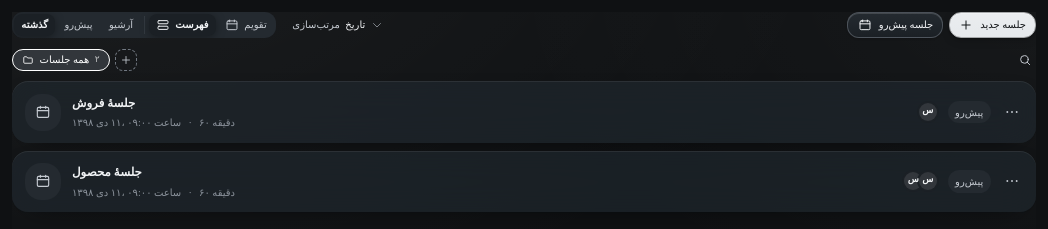
Meetings › the search filters by title and by participant
Expected: the text "جلسهٔ فروش" is shown, x1=72 y1=96 x2=135 y2=110
Step 1. Click the button named "جست‌وجوی جلسه" → (1025, 60), box x1=1014 y1=49 x2=1036 y2=70
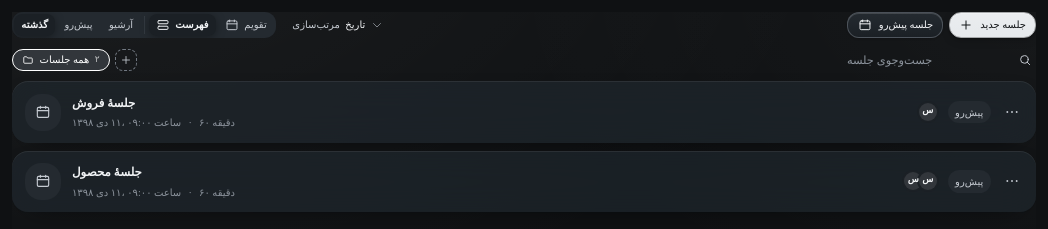
Step 2. Type "سارا" into the field with placeholder "جست‌وجوی جلسه" → (927, 60), box x1=840 y1=49 x2=1014 y2=70
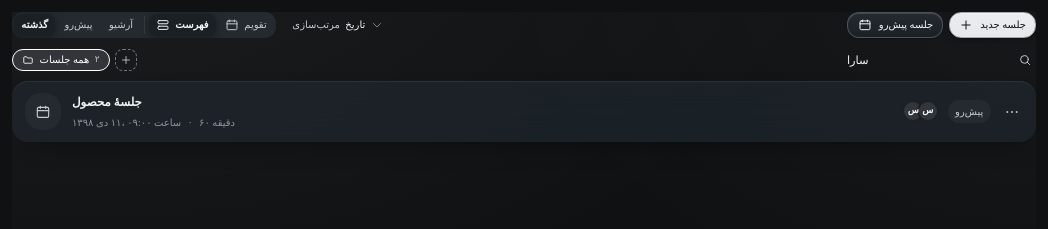
Expected: the text "جلسهٔ محصول" is shown, x1=72 y1=96 x2=142 y2=110
Result: the button "جلسهٔ فروش" is gone
